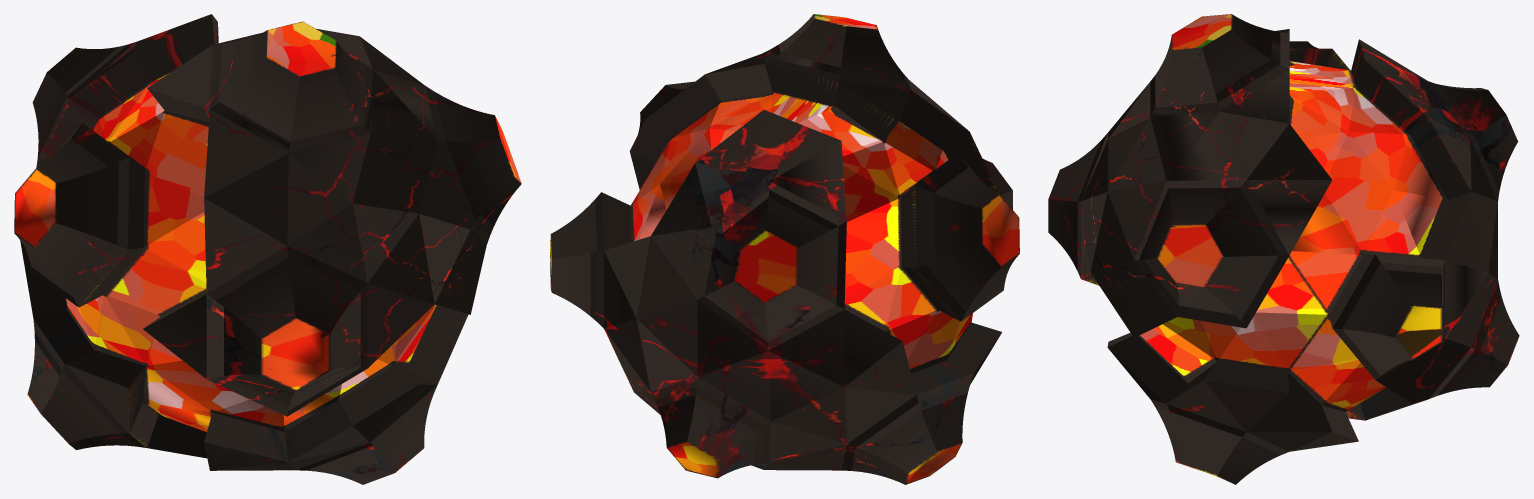
The model's file is Planet4.FBX.
The picture shows the model from 3 angles, left to right: view 1: azimuth 30°, elevation 25°; view 2: azimuth 150°, elevation 25°; view 3: azimuth 270°, elevation 25°; orthographic projection. The views are drawn at different scales.
Parts seen in each view (by area): view 1: Planet_4; view 2: Planet_4; view 3: Planet_4.
Boxes of the visible parts, bbox=[...] form: Planet_4: bbox=[14, 14, 521, 484]; Planet_4: bbox=[550, 14, 1019, 484]; Planet_4: bbox=[1048, 14, 1519, 484].
Size of the model in its own units: 22.13 by 22.13 by 22.07.
1 material, 1 textured.
